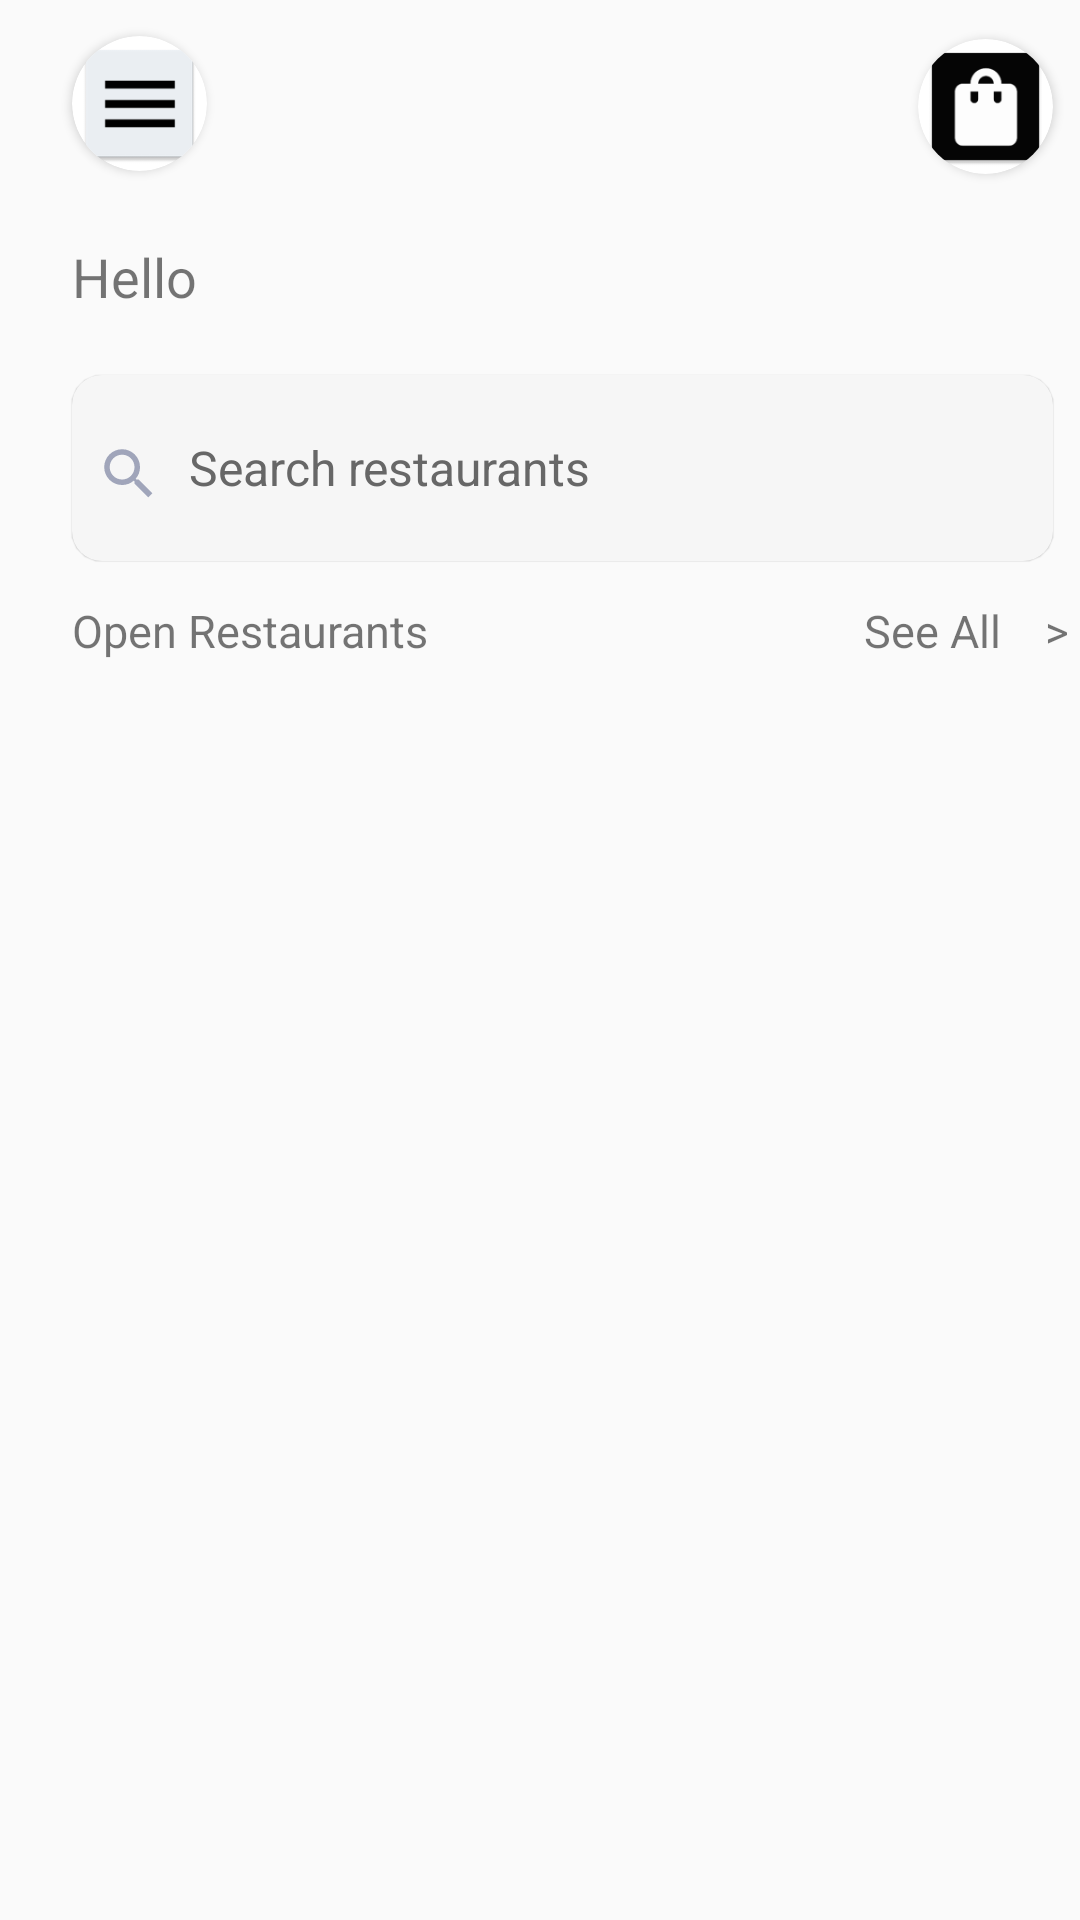

Named icons in this screenshot (1080px x 1920px) and their centers, point (x, y):
bag: point (985, 108)
menu: point (145, 111)
